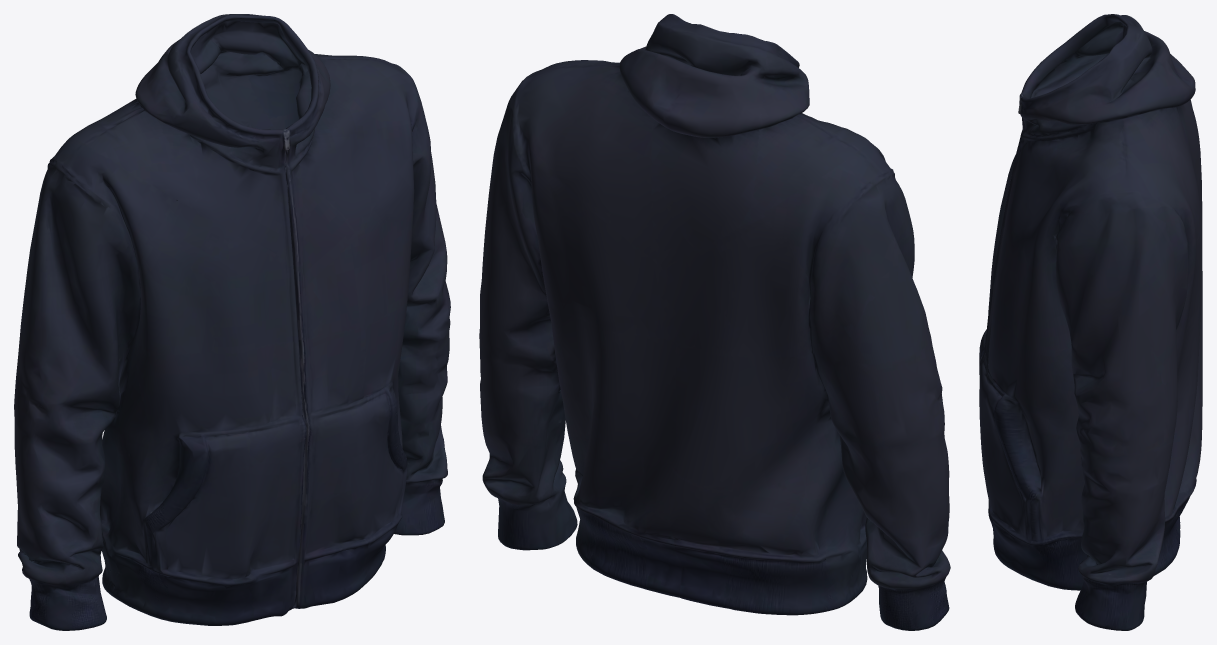
The picture shows the model from 3 angles, left to right: view 1: azimuth 30°, elevation 25°; view 2: azimuth 150°, elevation 25°; view 3: azimuth 270°, elevation 25°; orthographic projection. The views are drawn at different scales.
Visible parts, largest first — view 1: tripo_node_65a75be1-4d08-472a-a354-b95faa07b064; view 2: tripo_node_65a75be1-4d08-472a-a354-b95faa07b064; view 3: tripo_node_65a75be1-4d08-472a-a354-b95faa07b064.
Part boxes in pixels (box(x1,y1,x2,y2)): tripo_node_65a75be1-4d08-472a-a354-b95faa07b064: box(14, 14, 450, 630); tripo_node_65a75be1-4d08-472a-a354-b95faa07b064: box(479, 14, 950, 630); tripo_node_65a75be1-4d08-472a-a354-b95faa07b064: box(979, 14, 1202, 630).
Bounding box in the file's own units: 0.8256 × 0.9996 × 0.3937.
Materials: 1 (1 with a texture image).
